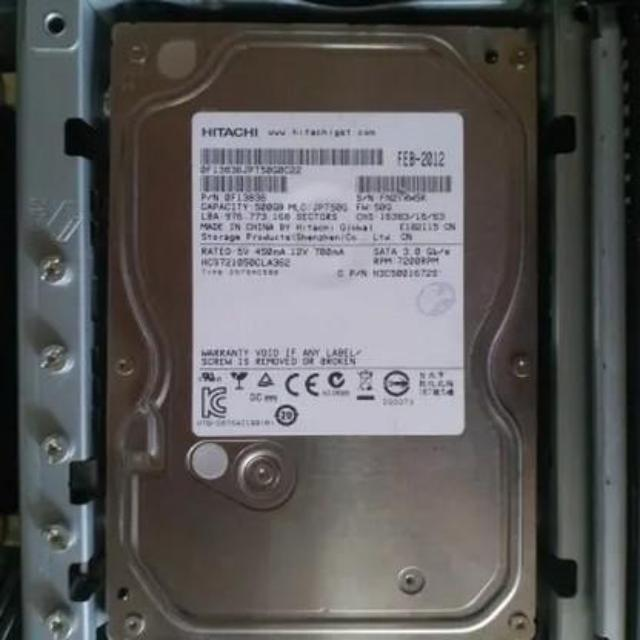DISK: (96, 0, 538, 640)
